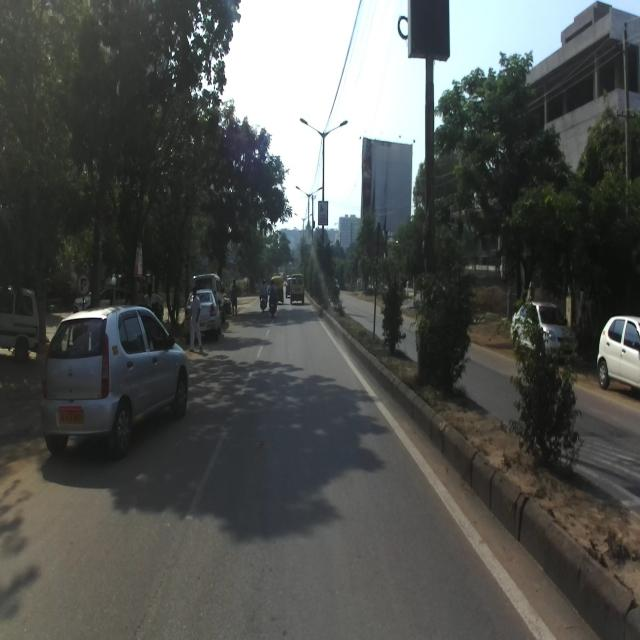Car_Maruti-Suzuki: (509, 298, 580, 362)
Car_TATA: (38, 302, 190, 459)
